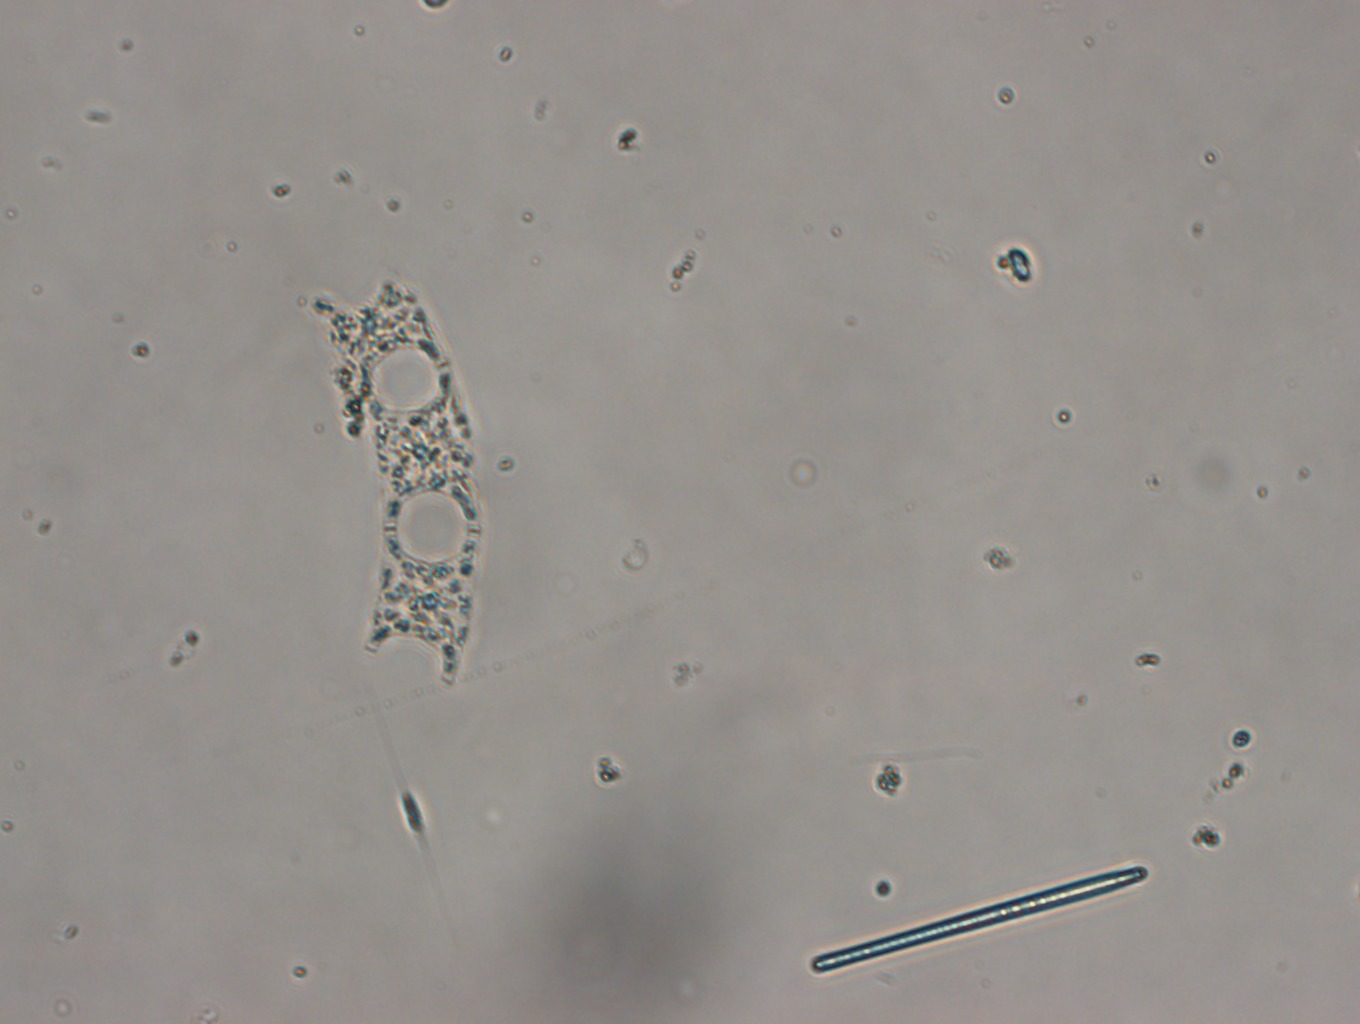eucampia: (303, 262, 481, 684)
